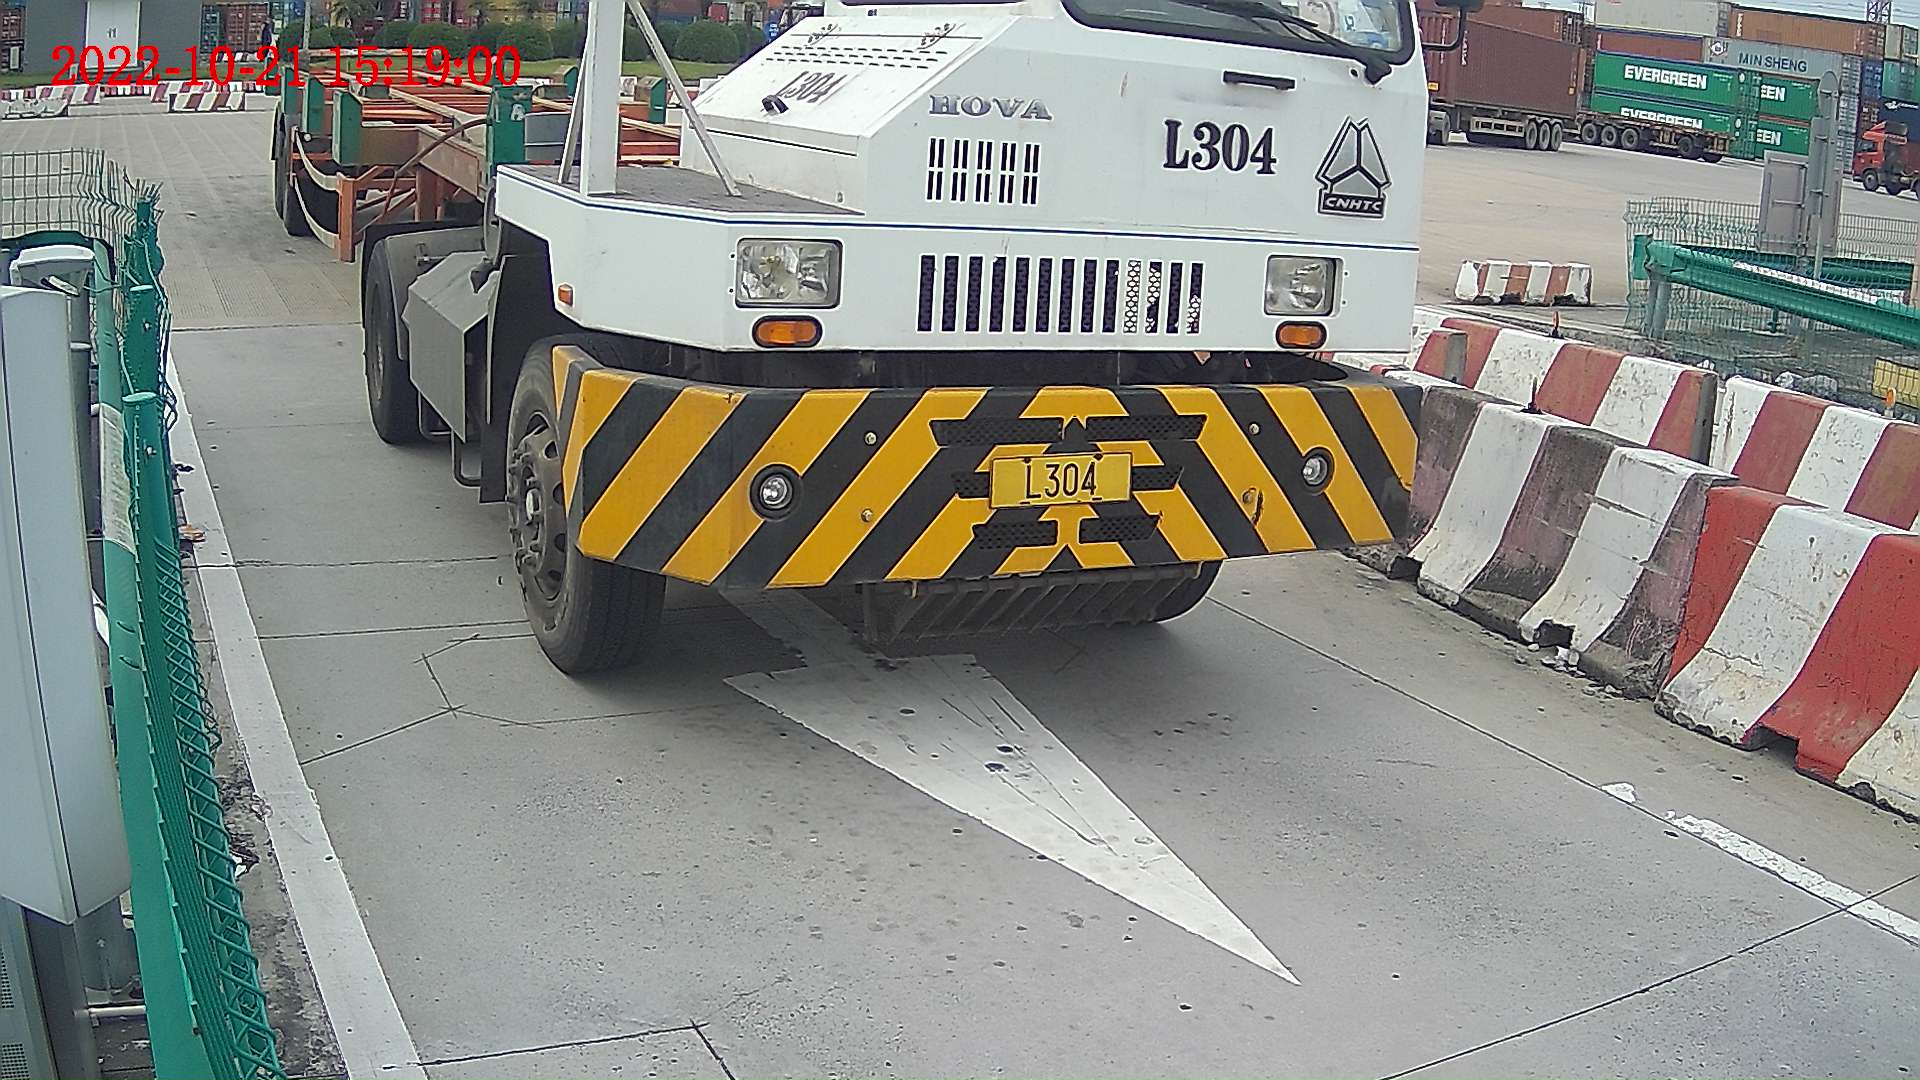head: (465, 1, 1430, 673)
plate: (997, 459, 1135, 502)
